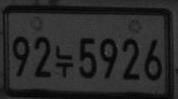2: (120, 37, 141, 81), (33, 35, 52, 78)
5: (77, 37, 98, 79)
6: (143, 37, 163, 81)
9: (99, 36, 119, 80), (10, 35, 30, 77)
누: (53, 44, 74, 79)
